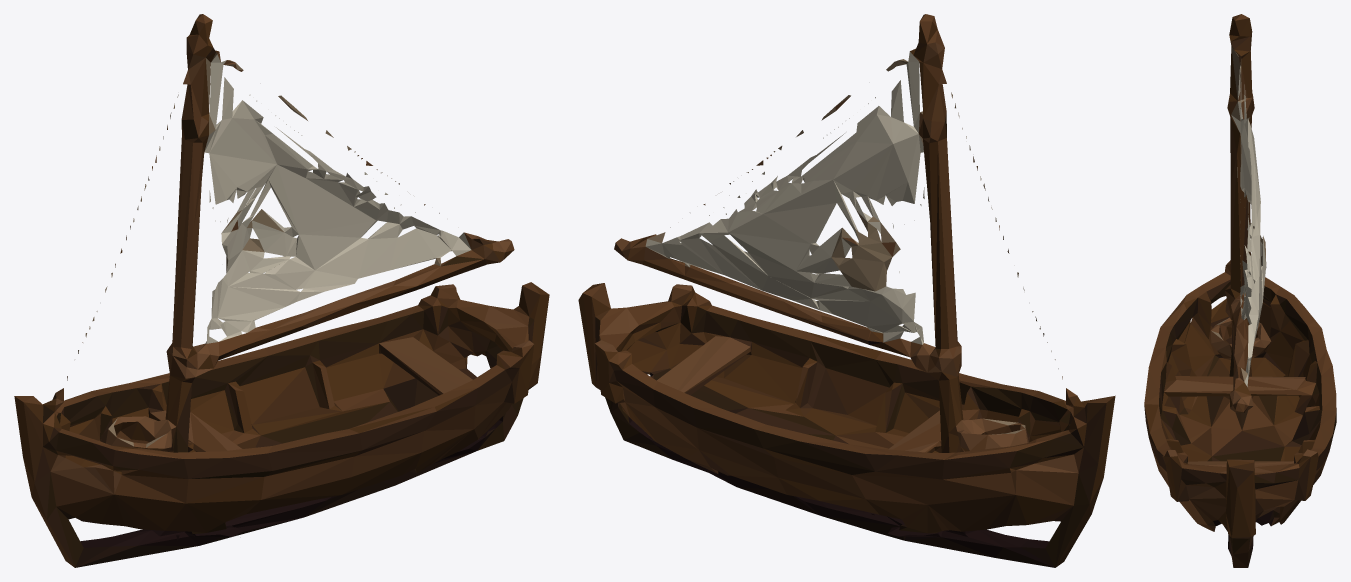
File: sailboat.glb
The picture shows the model from 3 angles, left to right: view 1: azimuth 30°, elevation 25°; view 2: azimuth 150°, elevation 25°; view 3: azimuth 270°, elevation 25°; orthographic projection. The views are drawn at different scales.
Visible parts, largest first — view 1: sailboat; view 2: sailboat; view 3: sailboat.
Boxes of the visible parts, box(x1,y1,x2,y2) form: sailboat: box(14, 14, 549, 567); sailboat: box(578, 14, 1115, 567); sailboat: box(1144, 14, 1336, 567).
Bounding box in the file's own units: 6.49 × 6.21 × 2.38.
